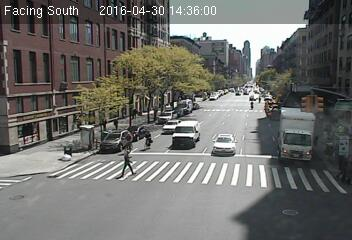neg: (187, 179, 206, 204), (140, 129, 156, 150), (30, 115, 46, 136), (178, 88, 191, 105), (57, 144, 69, 160), (195, 124, 207, 139), (230, 85, 241, 100), (331, 124, 340, 137), (295, 98, 303, 109), (295, 142, 303, 152)
pos: (114, 147, 139, 181), (128, 106, 139, 122), (110, 118, 121, 132), (99, 117, 109, 130)
